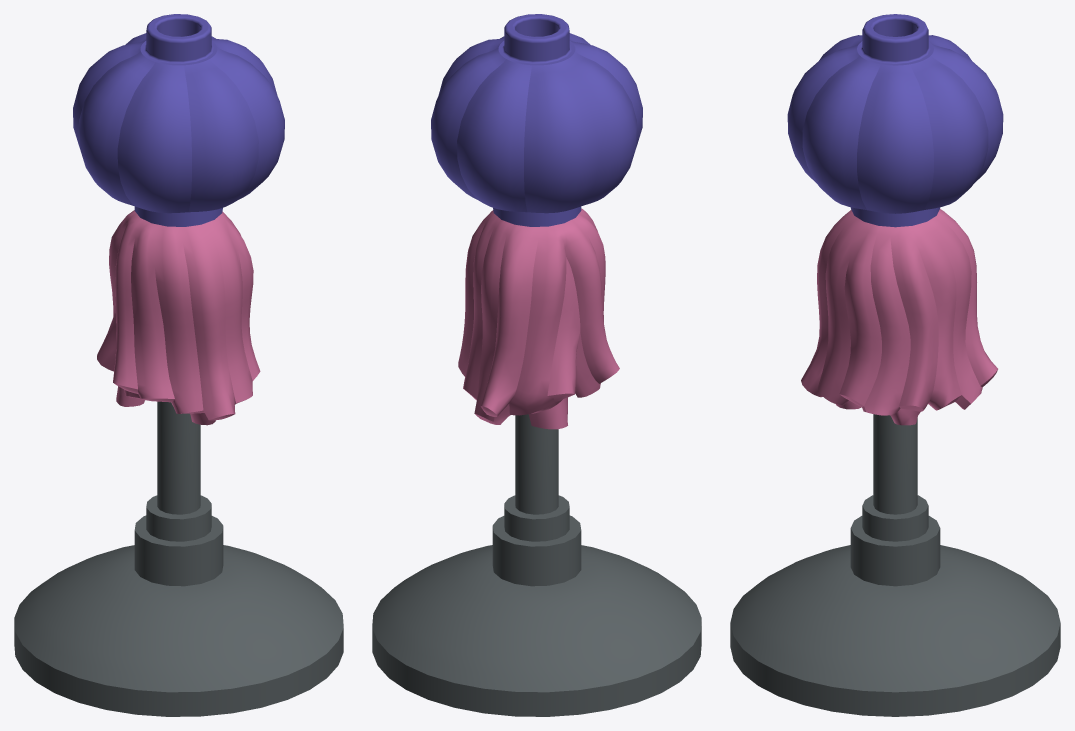
File: Sea3.fbx
3 renders of one model, left to right at view 1: azimuth 30°, elevation 25°; view 2: azimuth 150°, elevation 25°; view 3: azimuth 270°, elevation 25°, orthographic.
Visible parts, largest first — view 1: part.002, part.001, part.003, part; view 2: part.002, part.001, part.003, part; view 3: part.002, part.001, part.003, part.
Boxes of the visible parts, x1,y1,x2,y2 form: part.002: (14,545,343,716); part.001: (73,14,284,226); part.003: (97,210,260,425); part: (134,401,223,586); part.002: (372,545,701,716); part.001: (431,14,642,226); part.003: (458,208,619,429); part: (492,414,581,586); part.002: (730,545,1060,716); part.001: (787,14,1003,227); part.003: (801,209,997,425); part: (850,414,940,586).
Bounding box in the file's own units: 2400 × 4978 × 2400.
